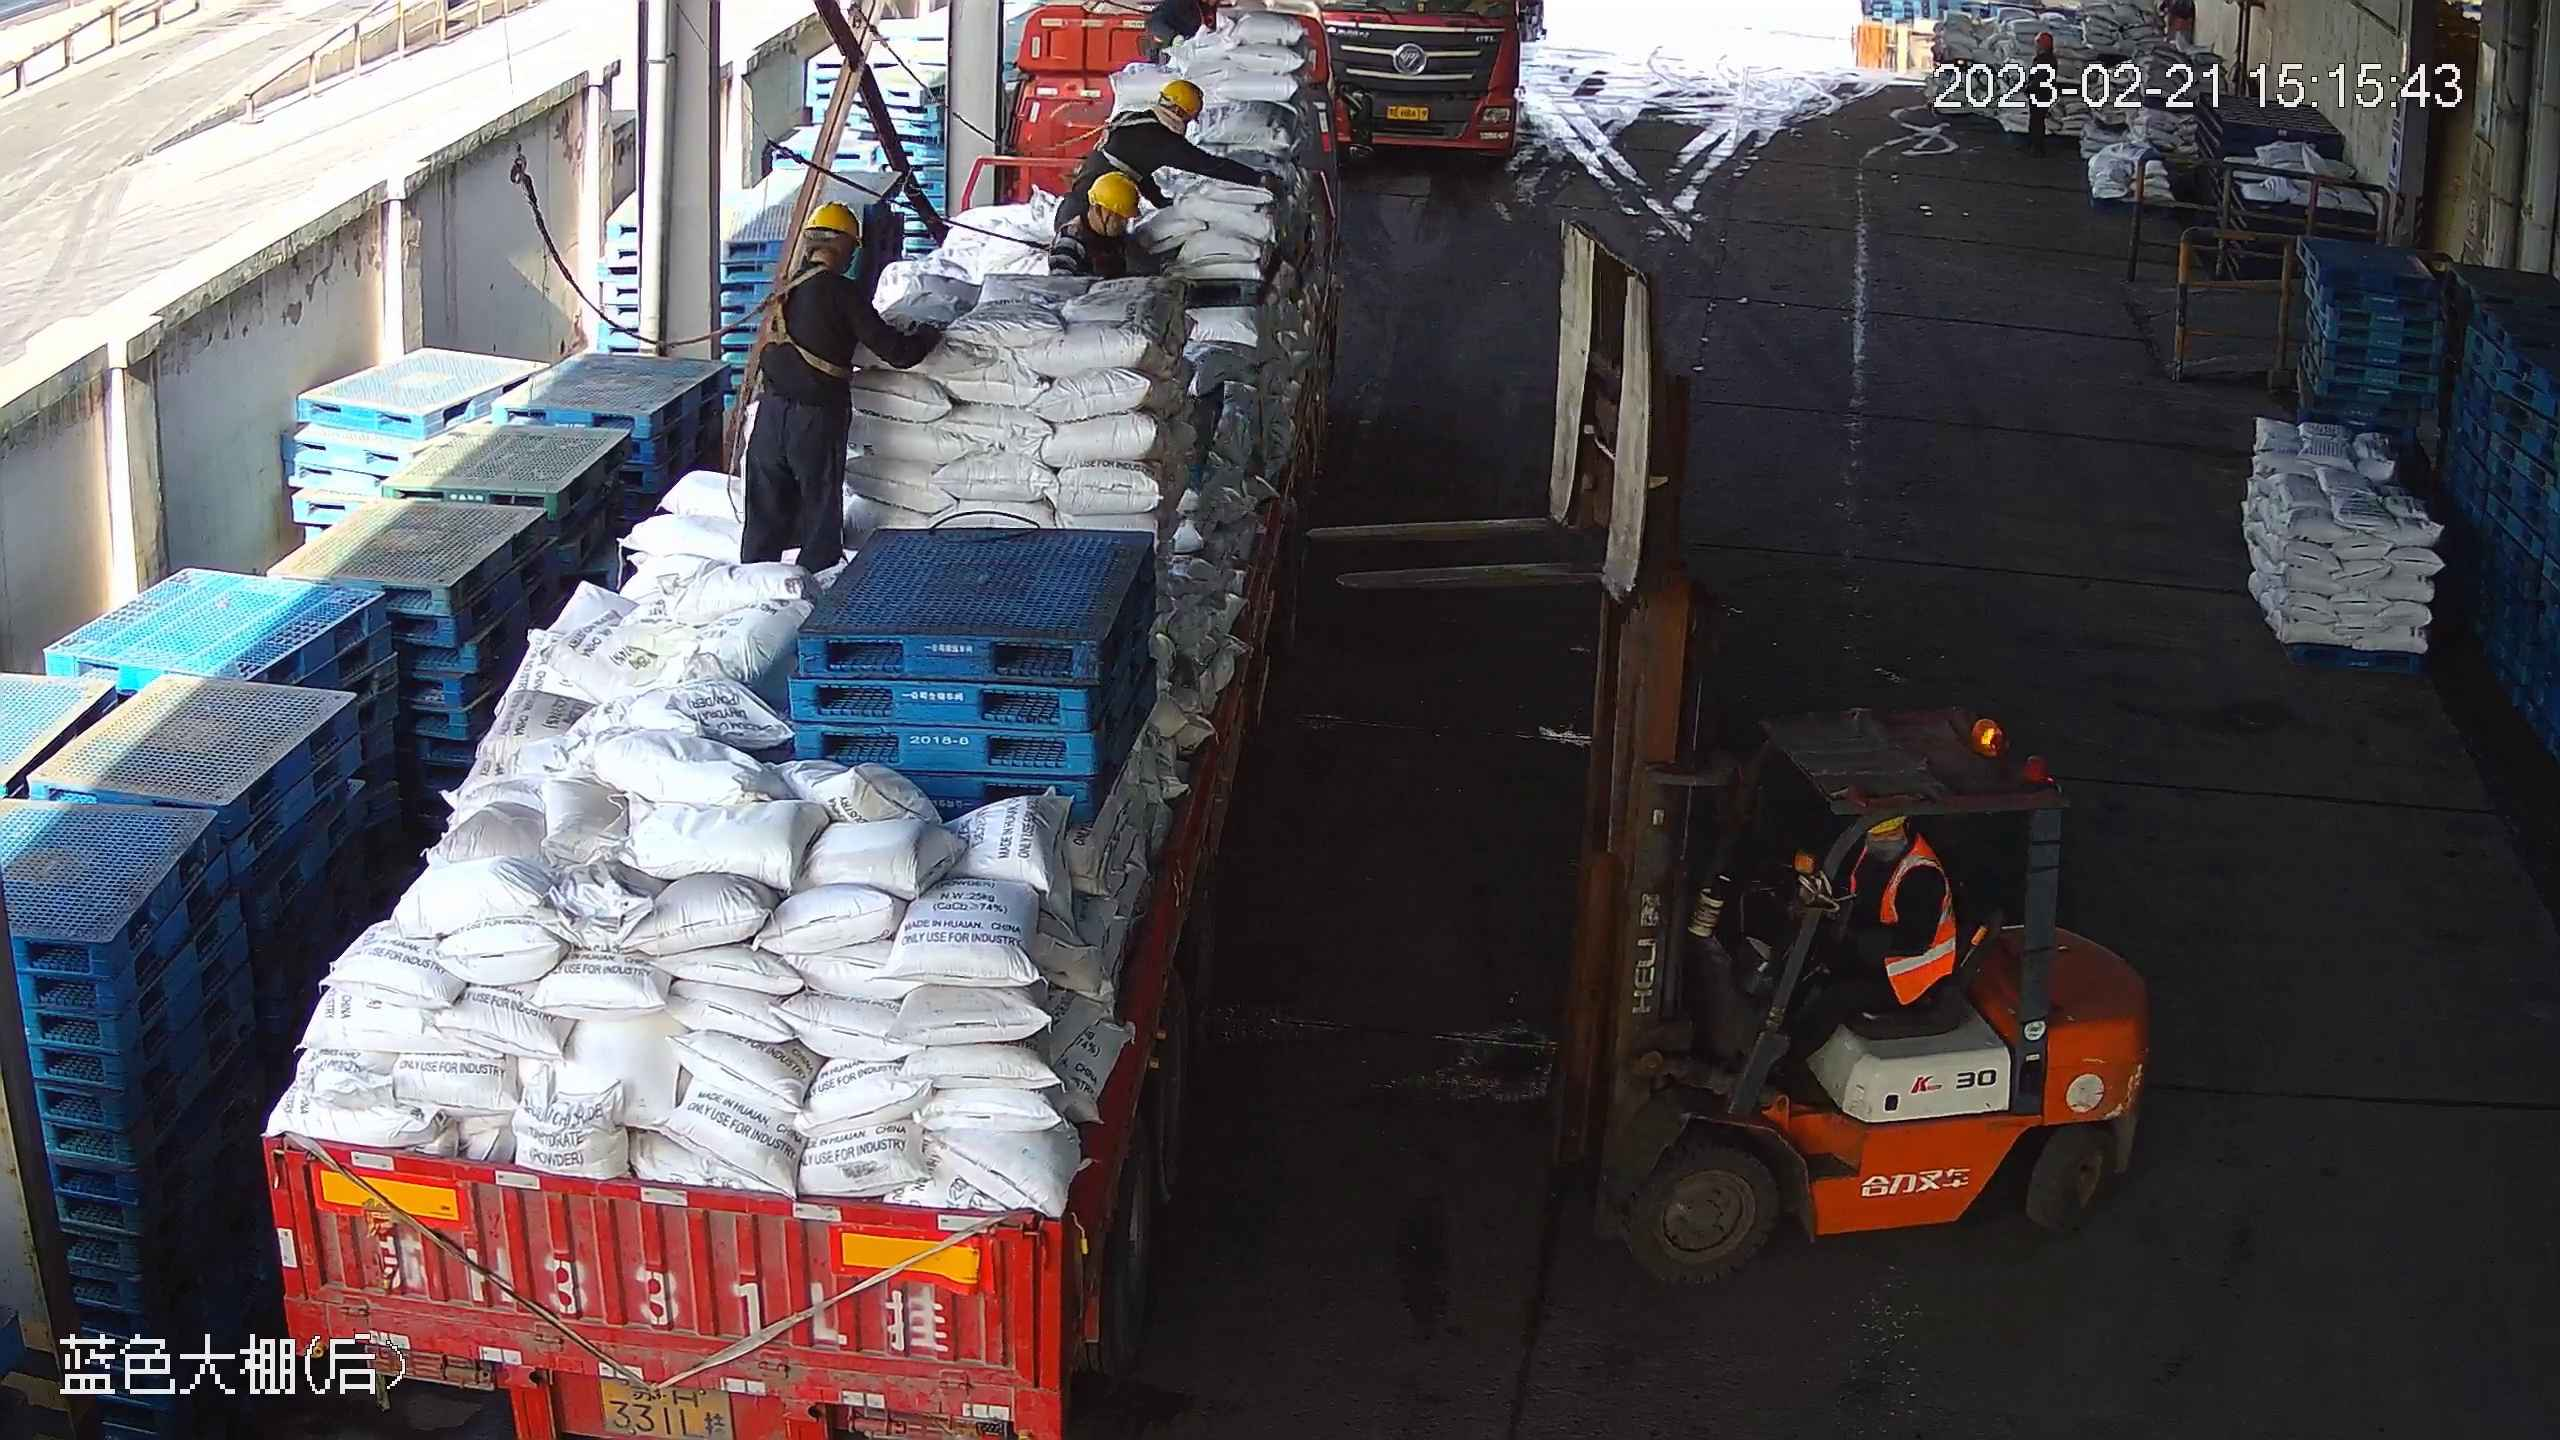belt: (767, 261, 861, 380), (1081, 105, 1164, 168)
head: (772, 197, 898, 331), (1092, 73, 1209, 168), (1844, 818, 1951, 914), (1051, 167, 1146, 270)
helmet: (801, 194, 859, 249), (1157, 70, 1218, 118), (1086, 170, 1140, 223)
people: (738, 193, 901, 569), (1822, 805, 1981, 1051)
truck: (229, 1, 1349, 1440), (1308, 1, 1549, 173)
